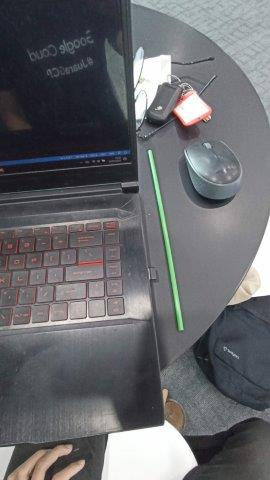sedotan: (148, 151, 183, 331)
